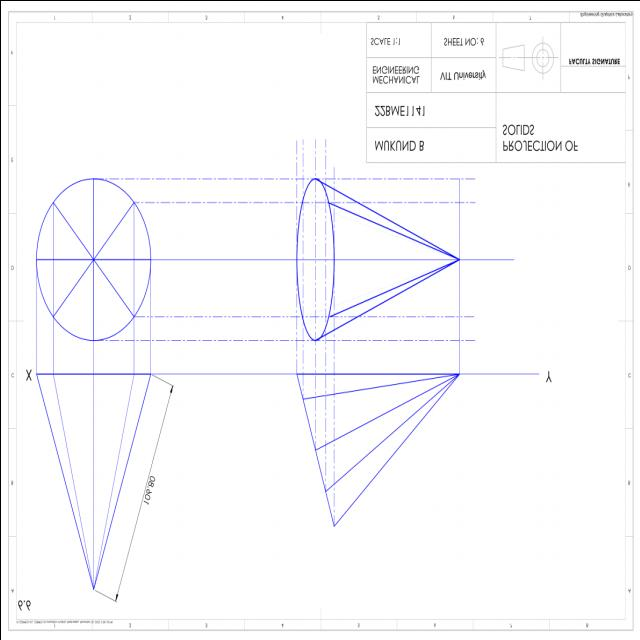Drawings: (32, 167, 494, 600)
